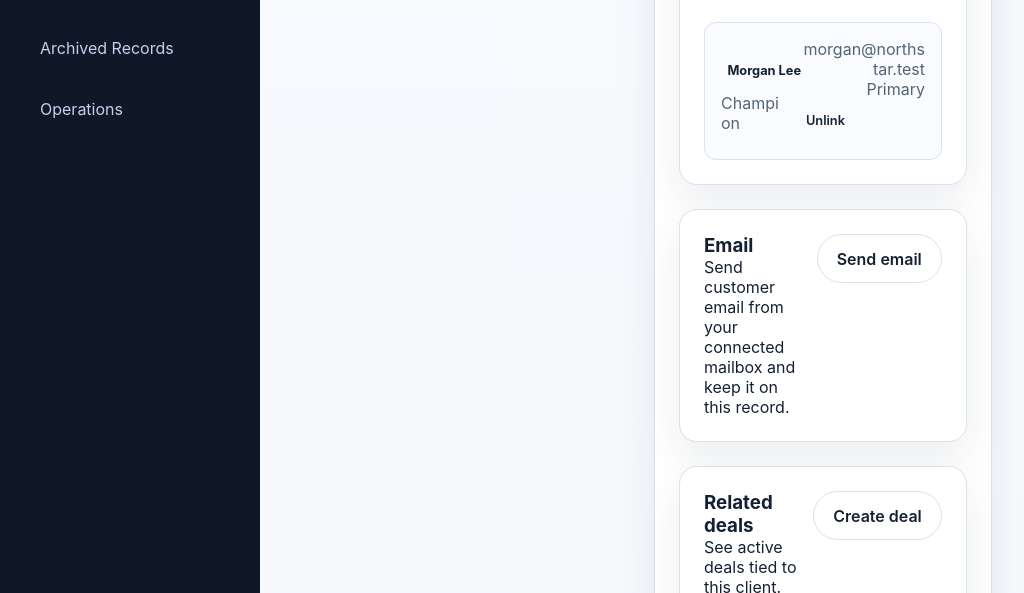
Scenario: record email composer flow › sends company email to a linked contact
(page scrolled)
Click the button "Send email": (879, 258) [816, 234, 942, 283]
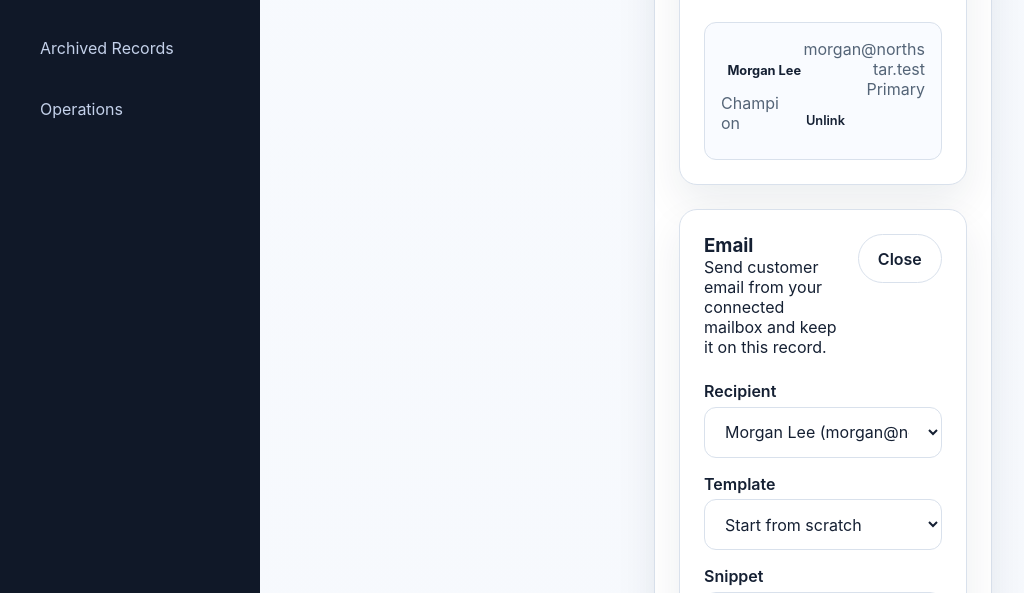
Select "Intro" in the dropdown labelled "Template": (823, 525) [704, 499, 942, 550]
(page scrolled)
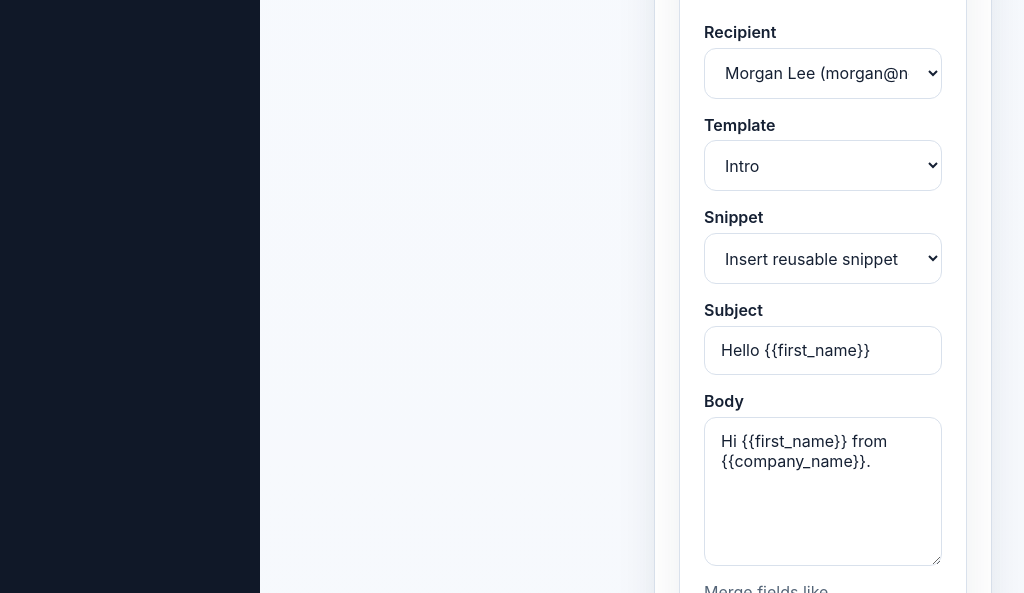
Expected: the field labelled "Subject" holds "Hello {{first_name}}", [704, 326, 942, 375]
Select "Scheduling CTA" in the dropdown labelled "Snippet": (823, 259) [704, 233, 942, 284]
(page scrolled)
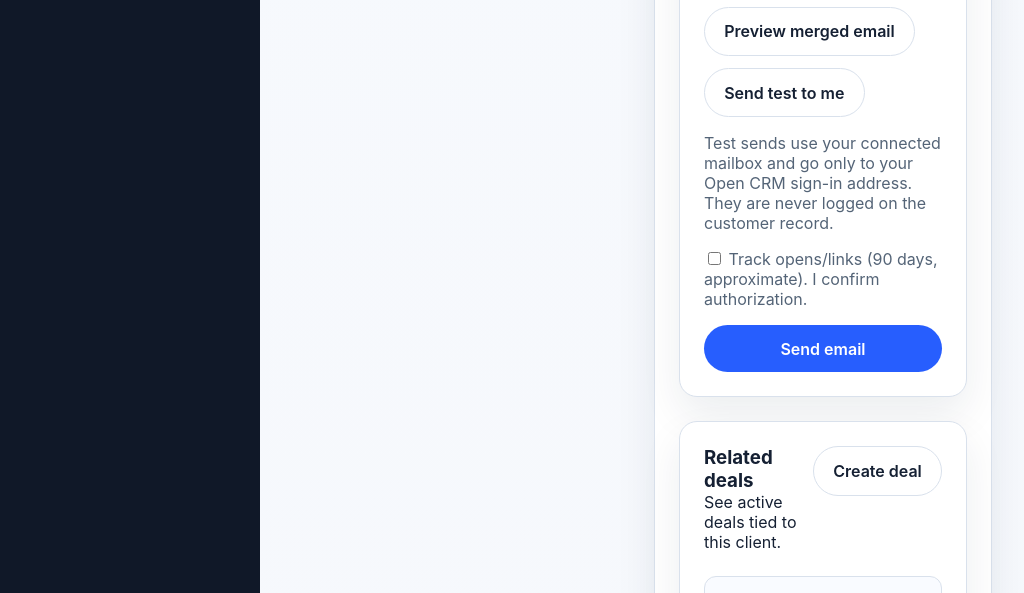
Expected: the checkbox labelled "Track opens/links" is not checked
Click the checkbox labelled "Track opens/links": (714, 259) [708, 252, 721, 265]
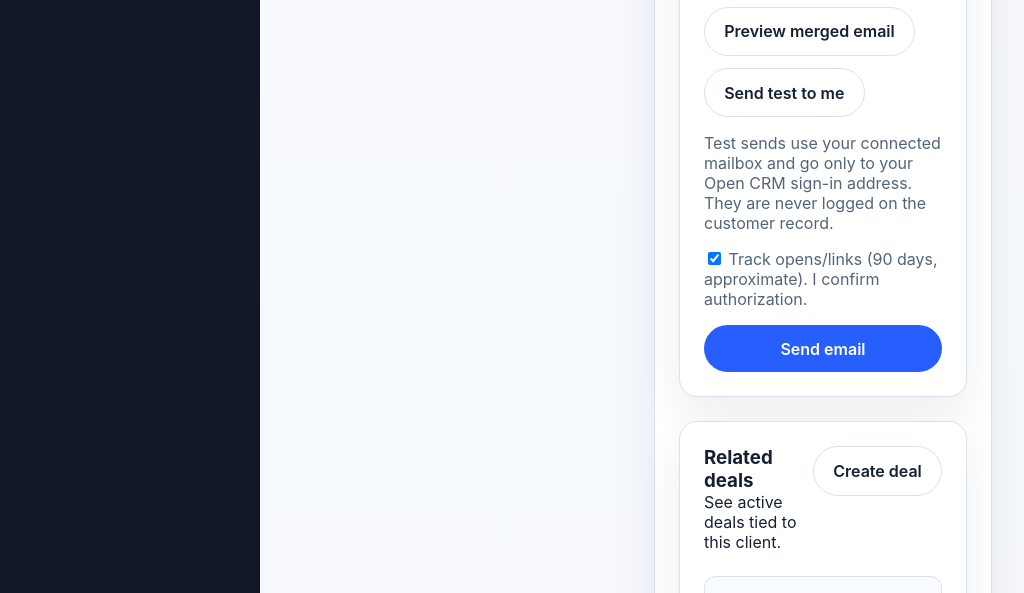
Click the button "Send email": (823, 349) [704, 325, 942, 372]
(page scrolled)
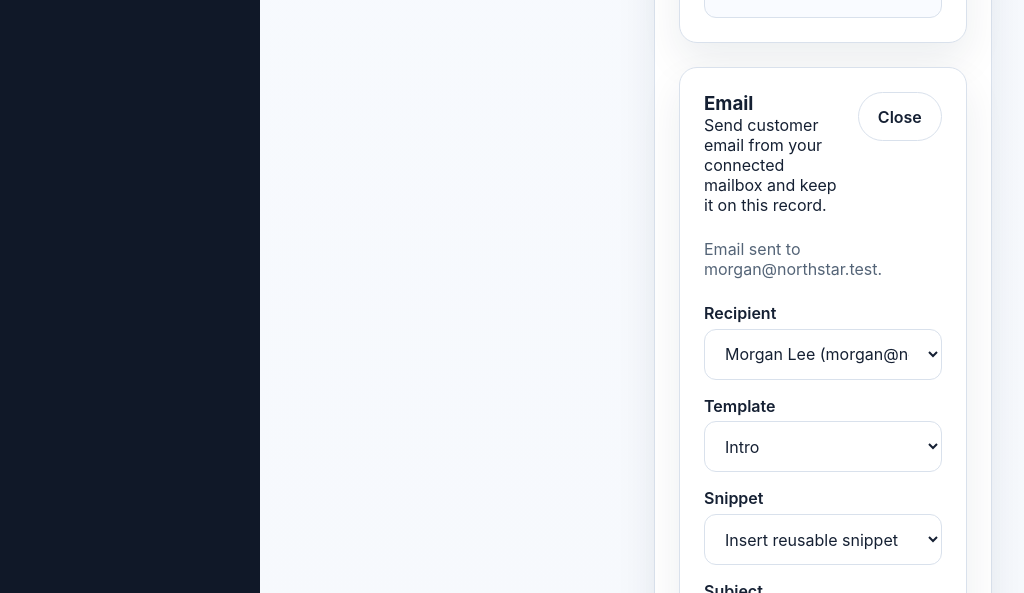
Expected: the text "Email sent to morgan@northstar.test." is shown, [704, 239, 882, 279]
